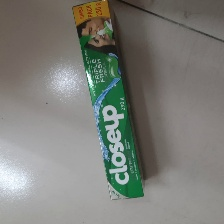CloseUp Xanh: (70, 1, 145, 201)
